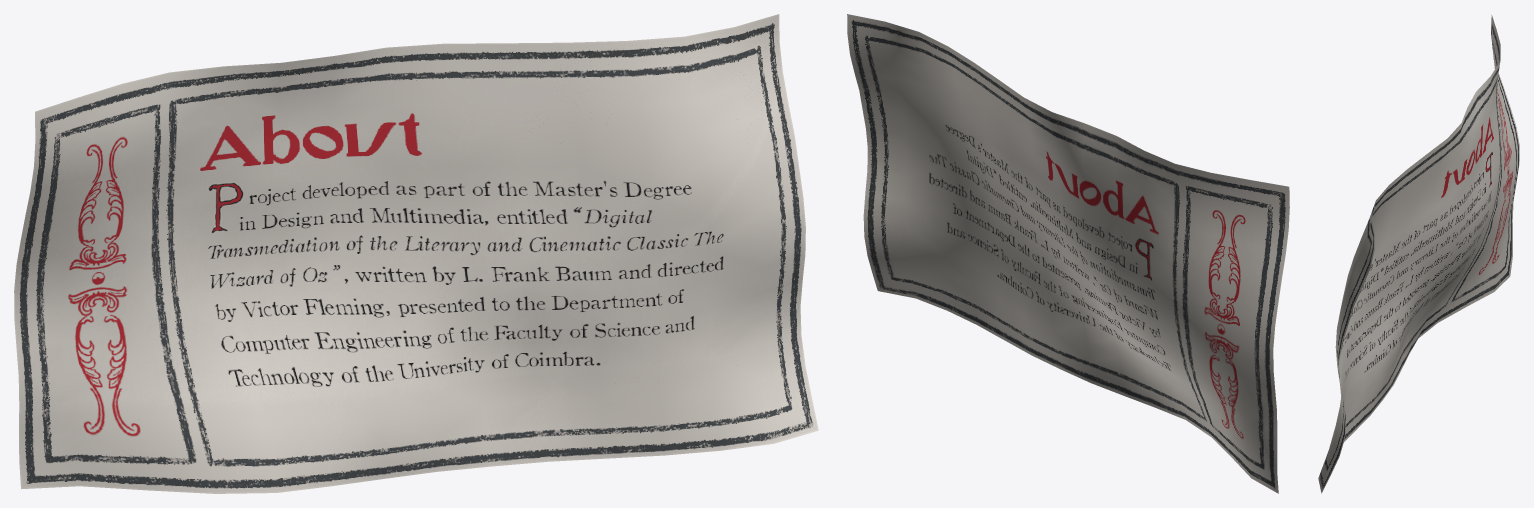
The model's file is About_melhorado2.glb.
3 renders of one model, left to right at view 1: azimuth 30°, elevation 25°; view 2: azimuth 150°, elevation 25°; view 3: azimuth 270°, elevation 25°, orthographic. The views are drawn at different scales.
Parts seen in each view (by area): view 1: About.001; view 2: About.001; view 3: About.001.
Part boxes in pixels (x1,y1,x2,y2): About.001: [14, 14, 818, 493]; About.001: [847, 14, 1289, 493]; About.001: [1318, 15, 1519, 493].
Bounding box in the file's own units: 0.2876 × 0.1618 × 0.1125.
Materials: 1 (1 with a texture image).
